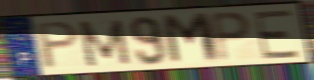9: (126, 14, 169, 68)
E: (252, 8, 302, 61)
M: (159, 11, 223, 66), (75, 18, 133, 68)
P: (208, 9, 254, 64), (35, 19, 81, 72)
